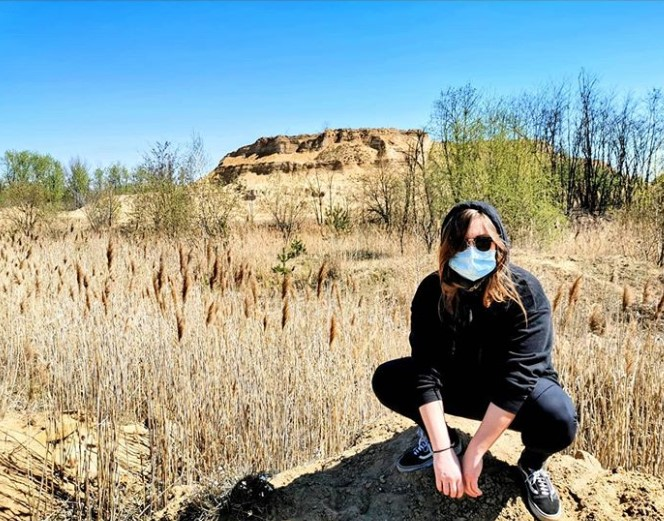face_with_mask: (438, 206, 506, 285)
